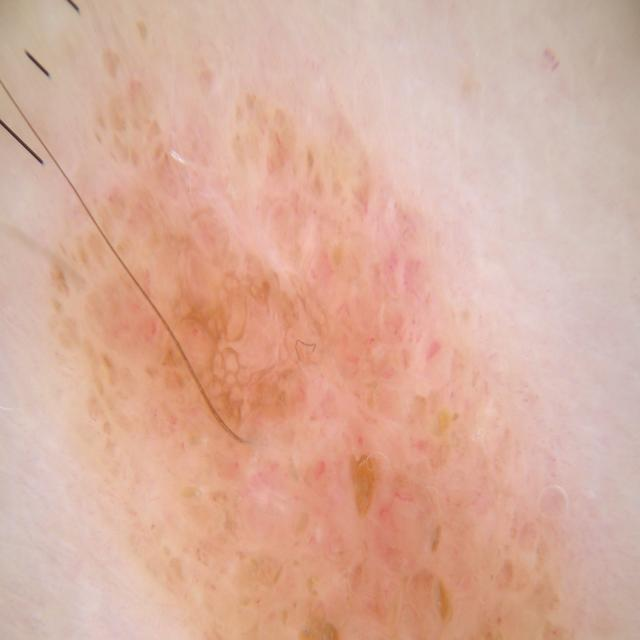Melanoma: (20, 92, 621, 640)
